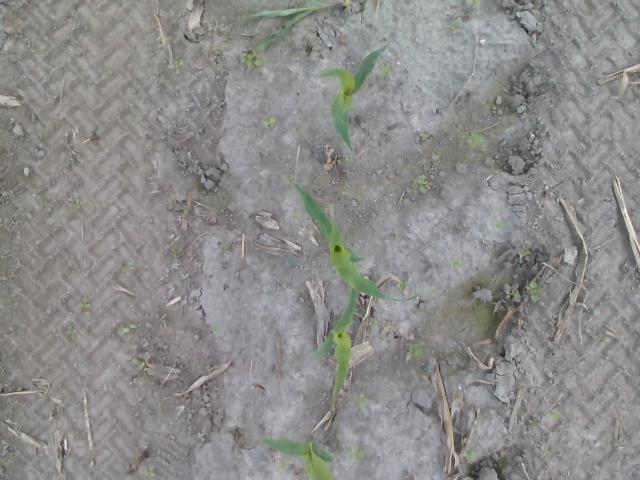Maize: (287, 180, 418, 302), (317, 42, 389, 155), (312, 282, 359, 408), (252, 0, 346, 53), (262, 436, 338, 480)
Weeds: (526, 409, 560, 429), (239, 50, 264, 68), (462, 130, 490, 146), (525, 280, 544, 302), (128, 350, 150, 368), (347, 445, 368, 463), (405, 344, 423, 360), (416, 174, 429, 194), (505, 286, 521, 300), (167, 58, 183, 72), (378, 64, 392, 80), (352, 394, 367, 408), (447, 258, 463, 268), (261, 116, 274, 128), (144, 465, 156, 478), (463, 449, 478, 459), (66, 326, 77, 338), (118, 325, 130, 336), (124, 262, 137, 272), (72, 198, 82, 211), (467, 0, 480, 8), (80, 300, 92, 308), (341, 154, 353, 162), (398, 281, 408, 290), (520, 247, 528, 256), (448, 22, 455, 30), (369, 319, 376, 326), (495, 170, 503, 176)
